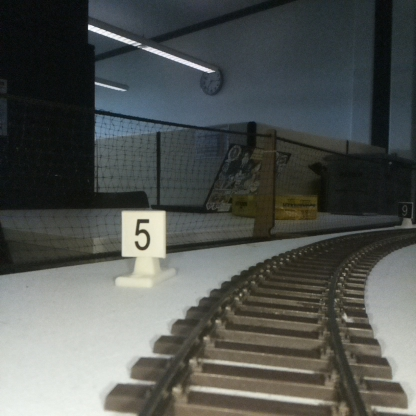black-stop-9: (398, 202, 413, 226)
white-stop-5: (121, 211, 165, 288)
